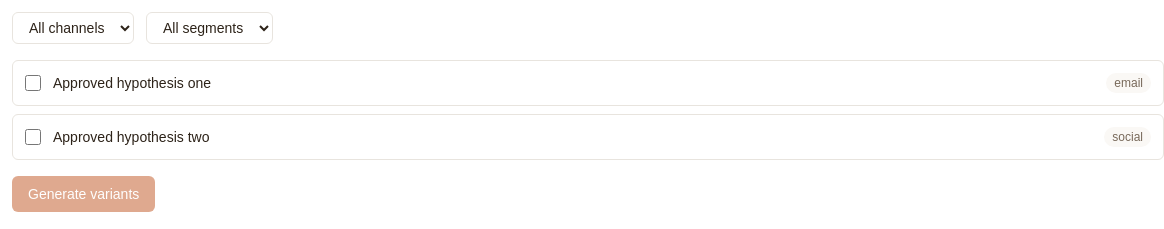
Test: FramePicker › "Generate variants" button is disabled when selected frames have running jobs
The image size is (1164, 229).
Note: Select both frames
Click the checkbox labelled "Approved hypothesis one email" at (33, 83), box left=25, top=75, right=41, bottom=91
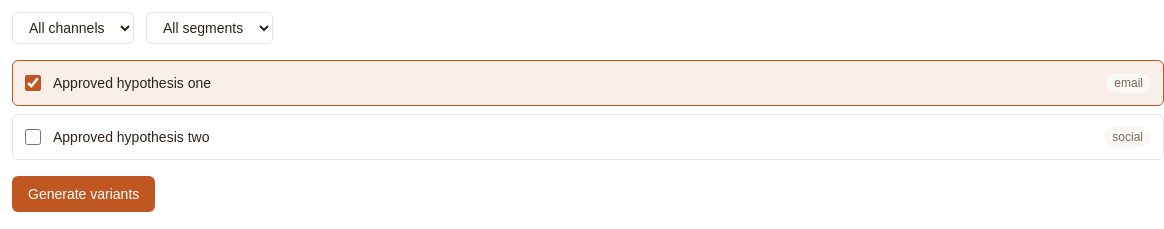
Click the checkbox labelled "Approved hypothesis two social" at (33, 137), box left=25, top=129, right=41, bottom=145
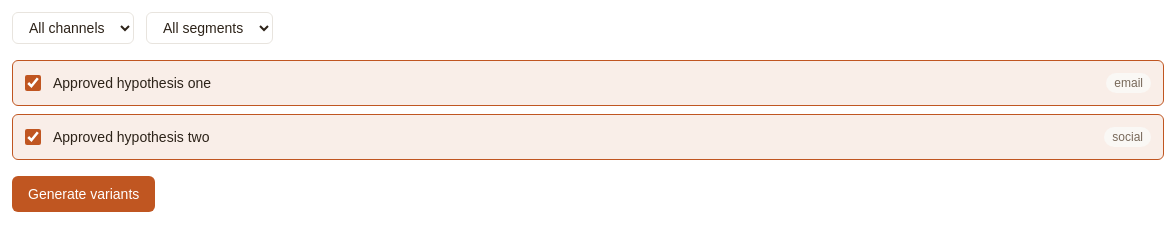
Now the button "Generate variants" is enabled
Note: Kick off the generation — wrap in act to flush async state updates
Click the button "Generate variants" at (84, 194), box left=12, top=176, right=155, bottom=212
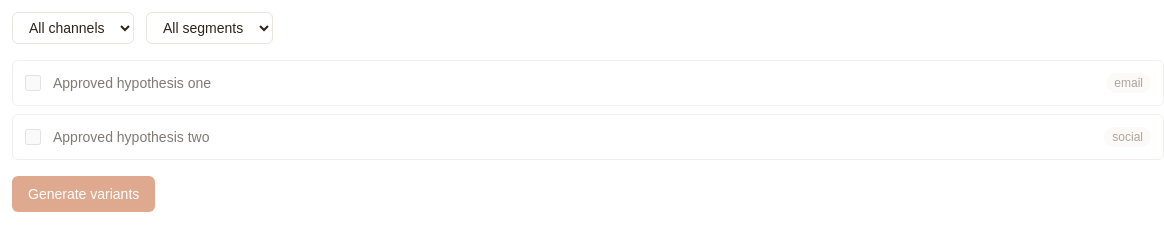
Now the checkbox labelled "Approved hypothesis one email" is disabled, box left=25, top=75, right=41, bottom=91
Now the checkbox labelled "Approved hypothesis two social" is disabled, box left=25, top=129, right=41, bottom=145
